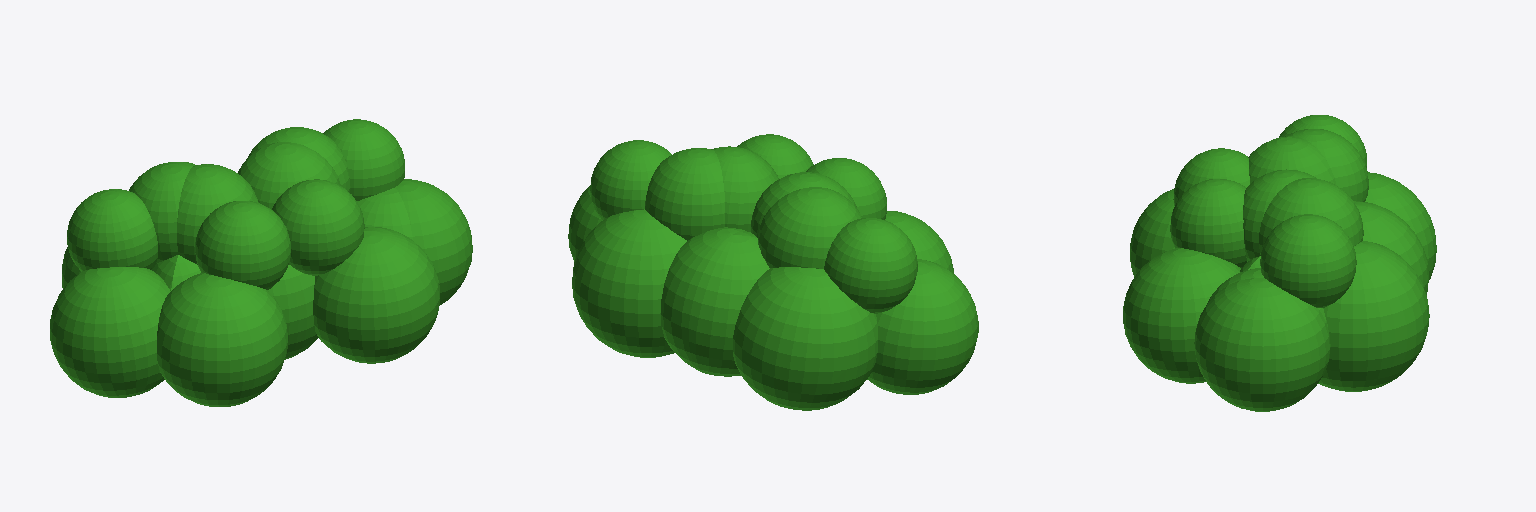
File: bush1.obj
3 renders of one model, left to right at view 1: azimuth 30°, elevation 25°; view 2: azimuth 150°, elevation 25°; view 3: azimuth 270°, elevation 25°, orthographic.
Parts seen in each view (by area): view 1: Sphere003, Sphere002; view 2: Sphere003; view 3: Sphere003.
Part boxes in pixels (bbox=[...]): Sphere003: bbox=[50, 119, 472, 406]; Sphere002: bbox=[357, 188, 412, 239]; Sphere003: bbox=[568, 134, 978, 410]; Sphere003: bbox=[1123, 115, 1436, 411].
Bounding box in the file's own units: 35.19 × 16.88 × 23.99.